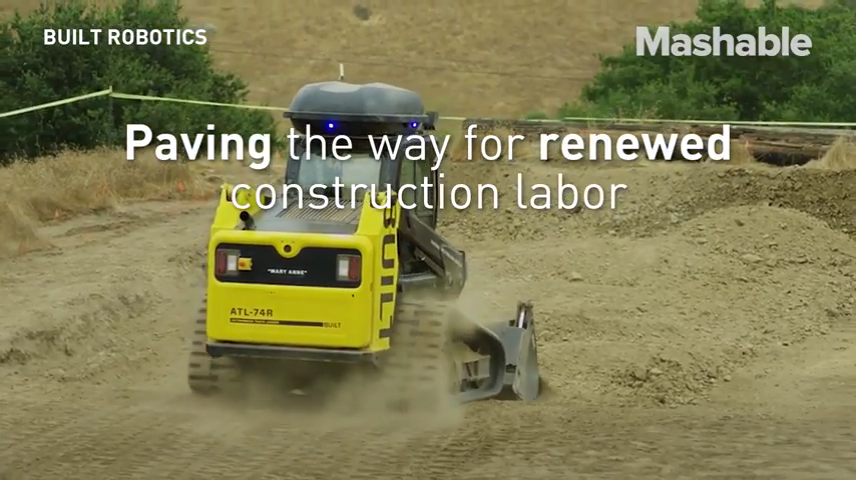con_eq: (185, 71, 548, 412)
